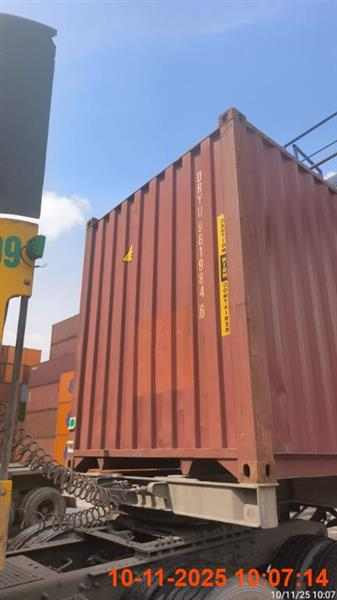broken: (7, 109, 335, 534)
